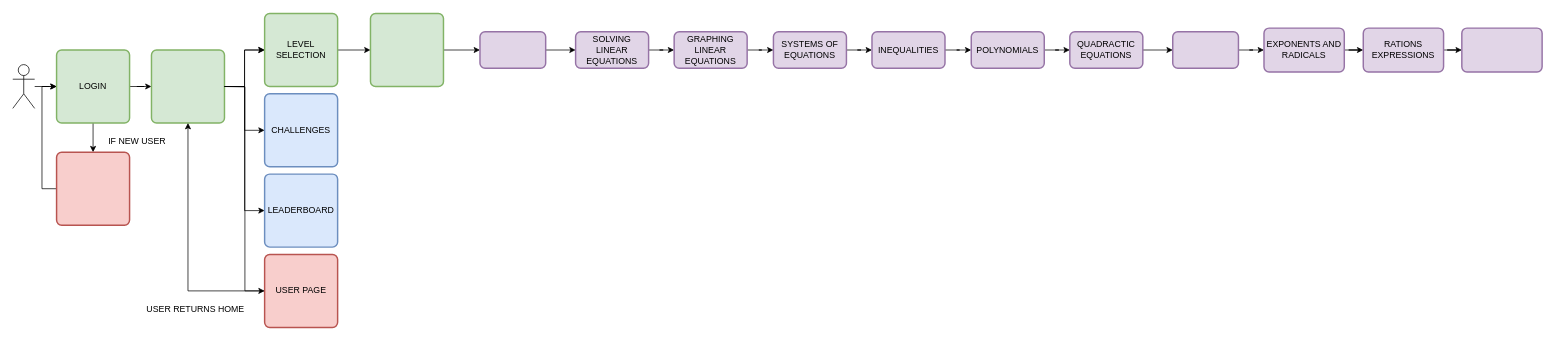
This 1556x340 diagram has some shape labels left out. The box of each missing label's shape, as (x1, y1, x2, y2) in pixels:
Actor: (12, 64, 35, 108)
COMPREHENSIVE REVIEW: (1461, 27, 1542, 72)
FUNCTIONS: (1172, 31, 1239, 69)
HOME: (150, 49, 225, 123)
INTRO TO ALGEBRA: (479, 31, 546, 69)
LEVELS LIST: (369, 12, 444, 87)
SIGN UP: (55, 151, 130, 226)
